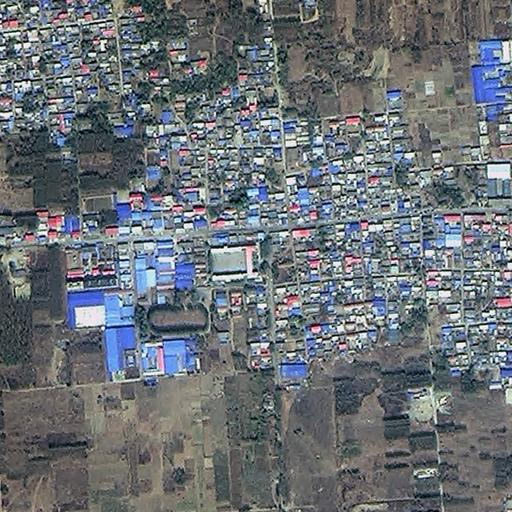school: (208, 241, 263, 280)
